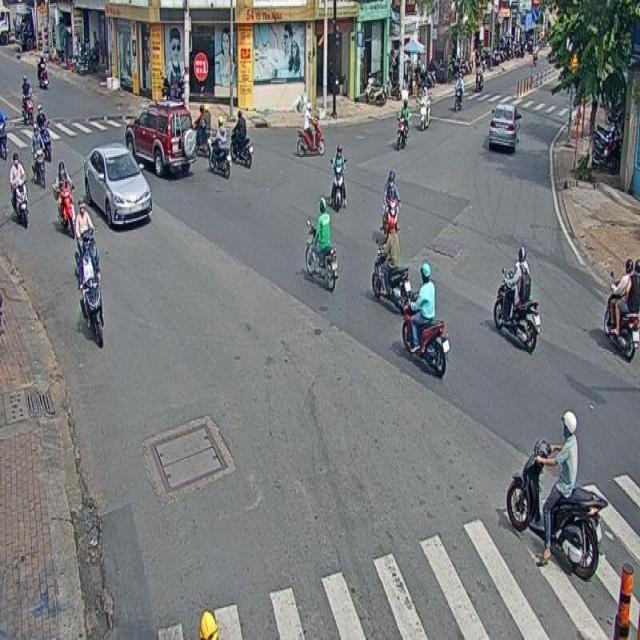car: (83, 143, 152, 230), (124, 100, 195, 176), (488, 104, 522, 148)
motorcycle: (505, 412, 604, 580), (402, 262, 449, 380), (492, 245, 542, 354), (372, 220, 411, 310), (305, 198, 338, 293), (76, 244, 103, 350), (54, 157, 75, 238), (296, 100, 326, 156), (8, 151, 29, 230), (207, 114, 230, 180), (380, 169, 402, 233), (230, 111, 252, 169), (330, 145, 346, 210), (30, 122, 46, 187), (396, 98, 410, 152)
